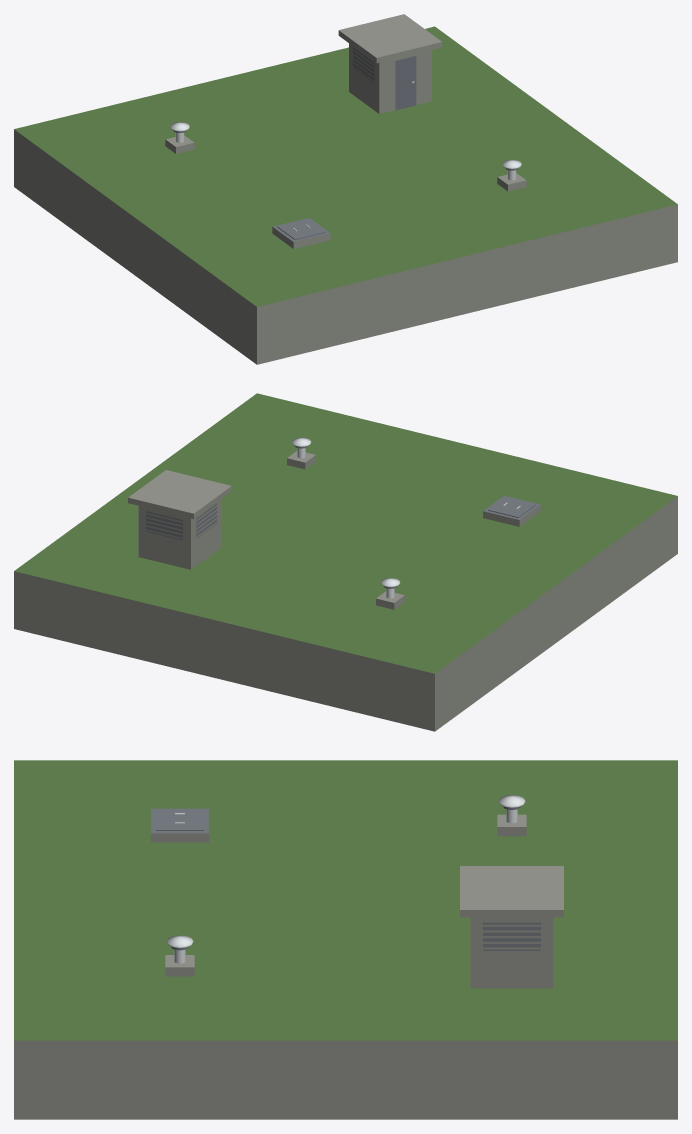
Rendered from mashup-reservoir-top-prebuilt_close.fbx.
3 views of the same model, one above another, from view 1: azimuth 30°, elevation 25°; view 2: azimuth 150°, elevation 25°; view 3: azimuth 270°, elevation 25° (orthographic). The views are drawn at different scales.
Parts seen in each view (by area): view 1: a1063/0/mashup-reservoir-top-prebuilt_close; view 2: a1063/0/mashup-reservoir-top-prebuilt_close; view 3: a1063/0/mashup-reservoir-top-prebuilt_close.
Part boxes in pixels (x1,y1,x2,y2): a1063/0/mashup-reservoir-top-prebuilt_close: (14, 14, 677, 364); a1063/0/mashup-reservoir-top-prebuilt_close: (14, 393, 677, 731); a1063/0/mashup-reservoir-top-prebuilt_close: (14, 760, 677, 1119).
Size of the model in its own units: 16 by 4.3 by 16.
